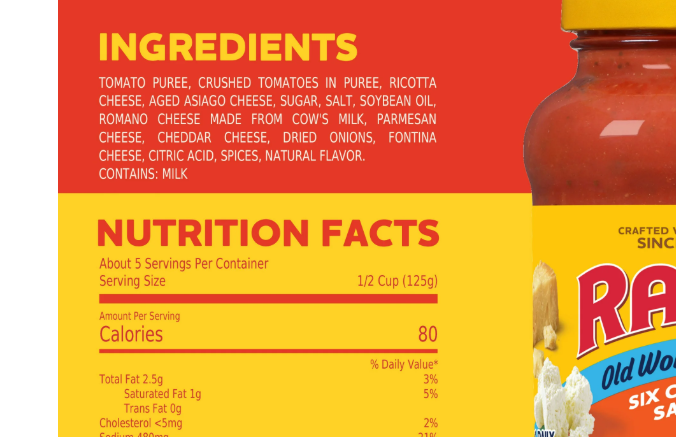l: (92, 28, 455, 164)
